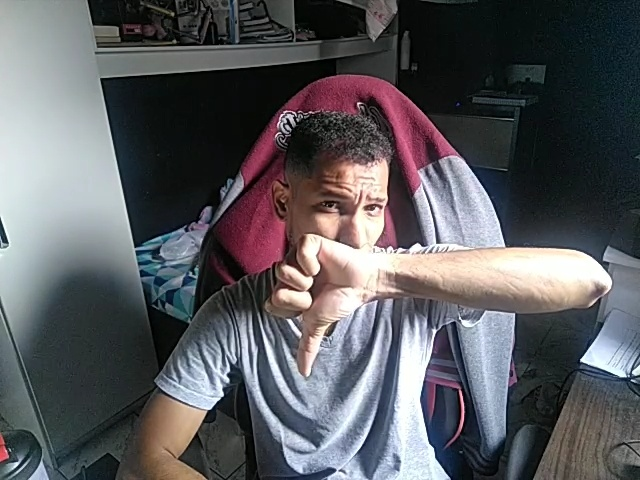não: (260, 229, 371, 378)
